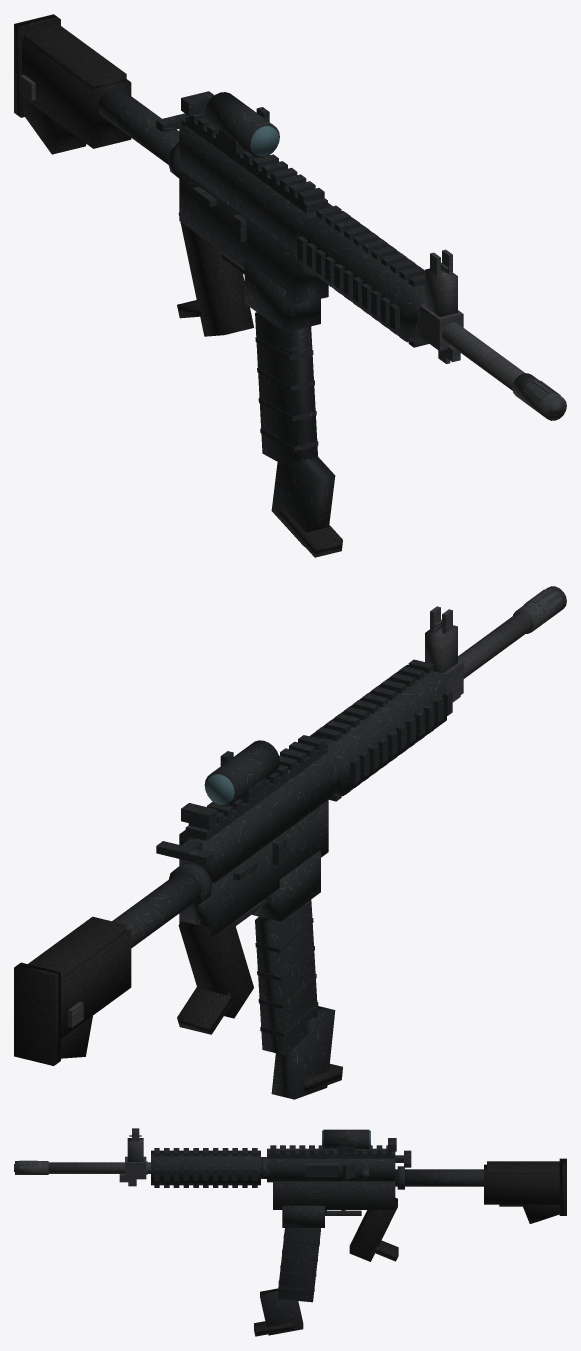
3 views of the same model, one above another, from view 1: azimuth 30°, elevation 25°; view 2: azimuth 150°, elevation 25°; view 3: azimuth 270°, elevation 25° (orthographic). The views are drawn at different scales.
Visible parts, largest first — view 1: Mag, Lower, Upper, Stock, Handguard, Grip, MagLow, StockCheek, BufferTube, Magwell, OpticTube, Barrel (+8 smaller); view 2: Mag, Upper, Lower, Handguard, ButtPlate, Grip, Stock, MagLow, BufferTube, StockCheek, Magwell, OpticTube (+10 smaller); view 3: Lower, Handguard, Stock, Mag, Upper, BufferTube, Grip, MagLow, Magwell, Barrel, StockCheek, RailBase (+9 smaller).
Boxes of the visible parts, x1,y1,x2,y2 form: Mag: (255, 312, 317, 466); Lower: (179, 168, 328, 304); Upper: (179, 125, 332, 254); Stock: (22, 39, 131, 148); Handguard: (303, 211, 424, 342); Grip: (178, 213, 253, 336); MagLow: (271, 454, 335, 546); StockCheek: (24, 23, 126, 88); BufferTube: (98, 87, 179, 164); Magwell: (244, 261, 320, 332); OpticTube: (204, 92, 279, 157); Barrel: (417, 311, 525, 390); Mag: (255, 899, 317, 1055); Upper: (179, 752, 334, 883); Lower: (179, 800, 328, 936); Handguard: (309, 665, 446, 796); ButtPlate: (14, 962, 60, 1065); Grip: (178, 921, 253, 1018); Stock: (61, 929, 131, 1038); MagLow: (271, 1006, 335, 1099); BufferTube: (112, 871, 201, 948); StockCheek: (28, 916, 126, 979); Magwell: (252, 850, 320, 921); OpticTube: (204, 740, 279, 806); Lower: (273, 1181, 395, 1209); Handguard: (151, 1150, 260, 1185); Stock: (484, 1164, 559, 1204); Mag: (278, 1228, 320, 1302); Upper: (267, 1158, 395, 1182); BufferTube: (395, 1169, 483, 1186); Grip: (349, 1198, 397, 1261); MagLow: (260, 1288, 303, 1335); Magwell: (282, 1205, 324, 1227); Barrel: (48, 1162, 150, 1173); StockCheek: (487, 1161, 559, 1173); RailBase: (267, 1148, 395, 1158).
Bounding box in the file's own units: 0.0589 × 0.3663 × 0.905.
Materials: 6 (3 with a texture image).
